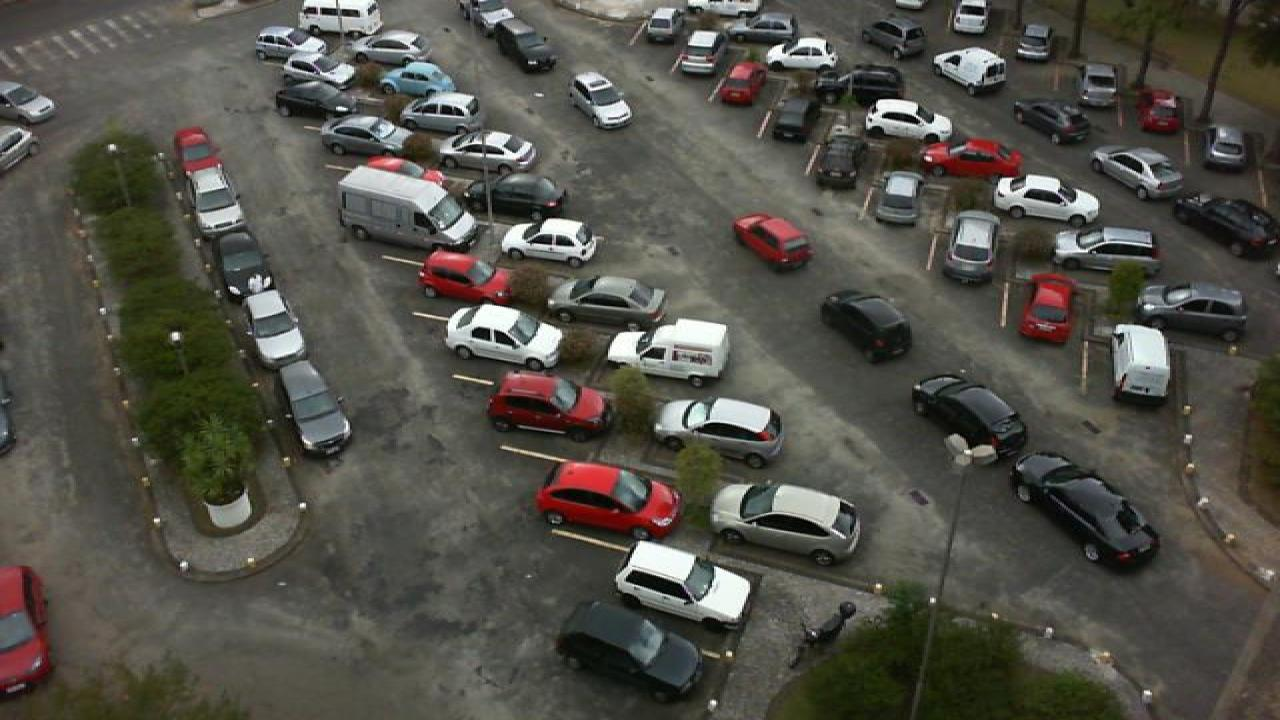Car: (1010, 450, 1164, 570), (554, 598, 708, 701), (710, 478, 860, 566), (614, 539, 754, 630), (534, 460, 684, 542), (910, 372, 1030, 464), (652, 395, 784, 470), (482, 371, 612, 441), (606, 318, 728, 387), (442, 303, 566, 369), (820, 287, 916, 364), (276, 360, 352, 454), (546, 272, 668, 330), (0, 565, 54, 696), (1136, 280, 1250, 342), (1174, 189, 1280, 255), (990, 174, 1102, 225), (1092, 144, 1190, 200), (1054, 224, 1164, 273), (242, 286, 308, 366), (416, 248, 512, 302), (464, 172, 564, 221), (436, 128, 536, 176), (500, 219, 600, 266), (732, 212, 814, 268), (920, 137, 1024, 179), (942, 209, 1002, 281), (212, 228, 274, 297), (1016, 272, 1076, 343), (864, 98, 956, 143), (1010, 98, 1094, 145), (190, 171, 250, 236), (818, 63, 904, 107), (568, 71, 632, 129), (492, 17, 558, 73), (318, 114, 410, 154), (396, 91, 482, 133), (818, 128, 870, 189), (272, 80, 358, 116), (376, 61, 458, 98), (870, 170, 924, 226), (280, 52, 358, 89), (344, 30, 430, 63), (172, 125, 224, 178), (0, 78, 58, 124), (864, 15, 926, 58), (254, 26, 328, 62), (768, 92, 820, 142), (766, 36, 838, 72), (1200, 123, 1252, 171), (674, 30, 724, 76), (718, 62, 770, 106), (362, 154, 442, 182), (1076, 61, 1122, 106), (1140, 89, 1186, 133), (734, 12, 796, 40), (458, 0, 510, 30), (642, 6, 684, 42), (950, 0, 990, 35), (1016, 24, 1052, 62)
